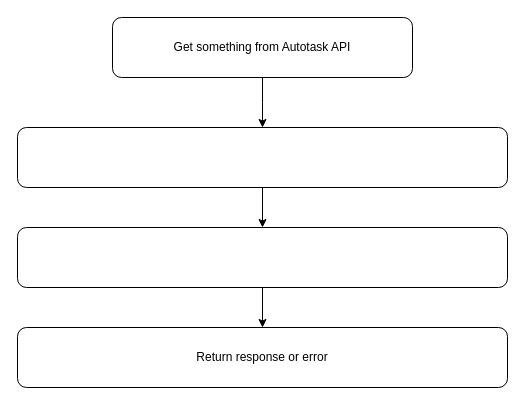
The diagram is 525 pixels wide and 405 high, and some of its shapes have lost their labels. The shapes that lost their labels are listed below. From the top down, each one's box as (x1, y1, x2, y2) in pixels, then its label:
(16, 126, 508, 188): Check requested information and execute method
(16, 226, 508, 288): Raise event for logs
